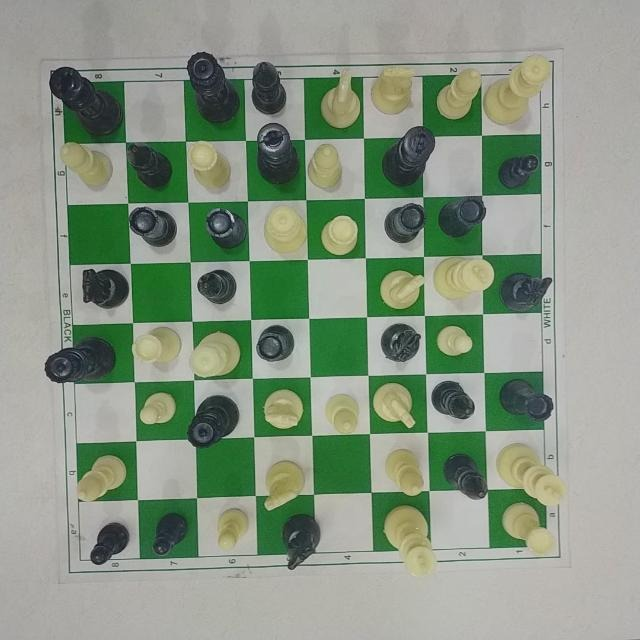black-bishop: (126, 141, 174, 189), (442, 452, 488, 501), (250, 60, 287, 115), (430, 380, 476, 421), (196, 269, 238, 305)
black-king: (48, 65, 125, 136), (381, 125, 436, 186), (258, 123, 300, 185)
black-knight: (279, 514, 322, 570), (498, 271, 553, 313), (81, 268, 130, 310), (380, 321, 422, 362)
black-pawn: (89, 520, 131, 566), (151, 511, 188, 556), (497, 154, 540, 190)
black-queen: (186, 51, 241, 125), (43, 336, 117, 384), (187, 395, 239, 449)
black-rook: (498, 378, 554, 422), (437, 195, 487, 238), (128, 206, 178, 248), (203, 207, 247, 249), (384, 202, 428, 244), (255, 323, 295, 362)
white-bishop: (74, 453, 128, 502), (435, 66, 483, 121), (59, 141, 115, 188), (383, 447, 425, 497), (308, 142, 342, 189), (324, 393, 360, 435)
white-king: (495, 441, 567, 506), (382, 505, 438, 580), (431, 256, 495, 300)
white-knight: (320, 66, 362, 130), (369, 65, 416, 115), (263, 458, 305, 510), (372, 380, 416, 429), (378, 268, 427, 310), (261, 388, 304, 430)
white-pawn: (216, 507, 250, 551), (138, 391, 178, 425), (436, 324, 474, 356)
white-queen: (488, 53, 552, 125), (187, 330, 242, 378), (262, 204, 308, 254)
white-rook: (501, 505, 556, 557), (186, 139, 231, 189), (131, 325, 183, 365), (319, 214, 359, 257)
